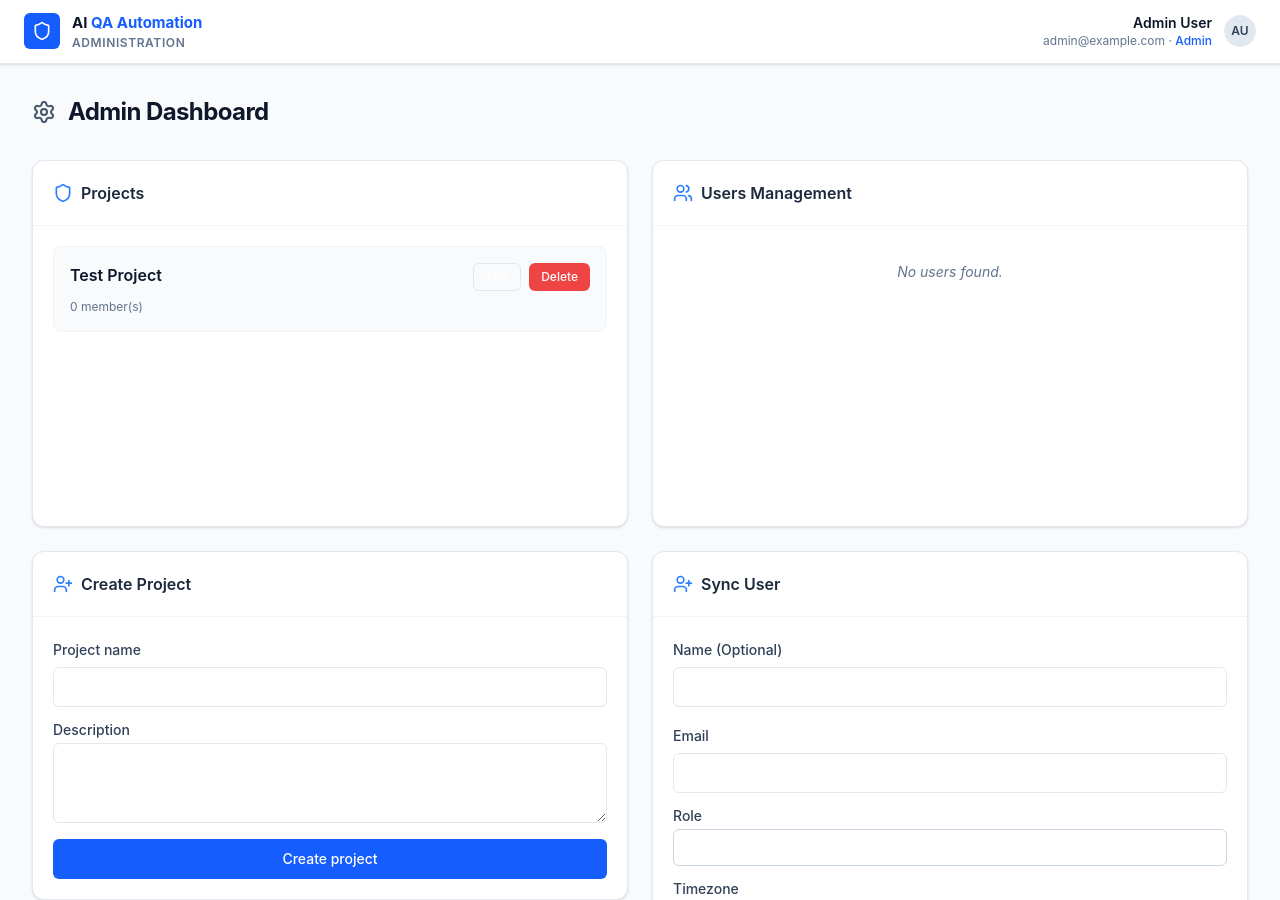
Scenario: AdminDashboard edit project form is name + description only
The width and height of the screenshot is (1280, 900).
Click the button with aria-label "edit test project": click(497, 276) [473,262,521,290]
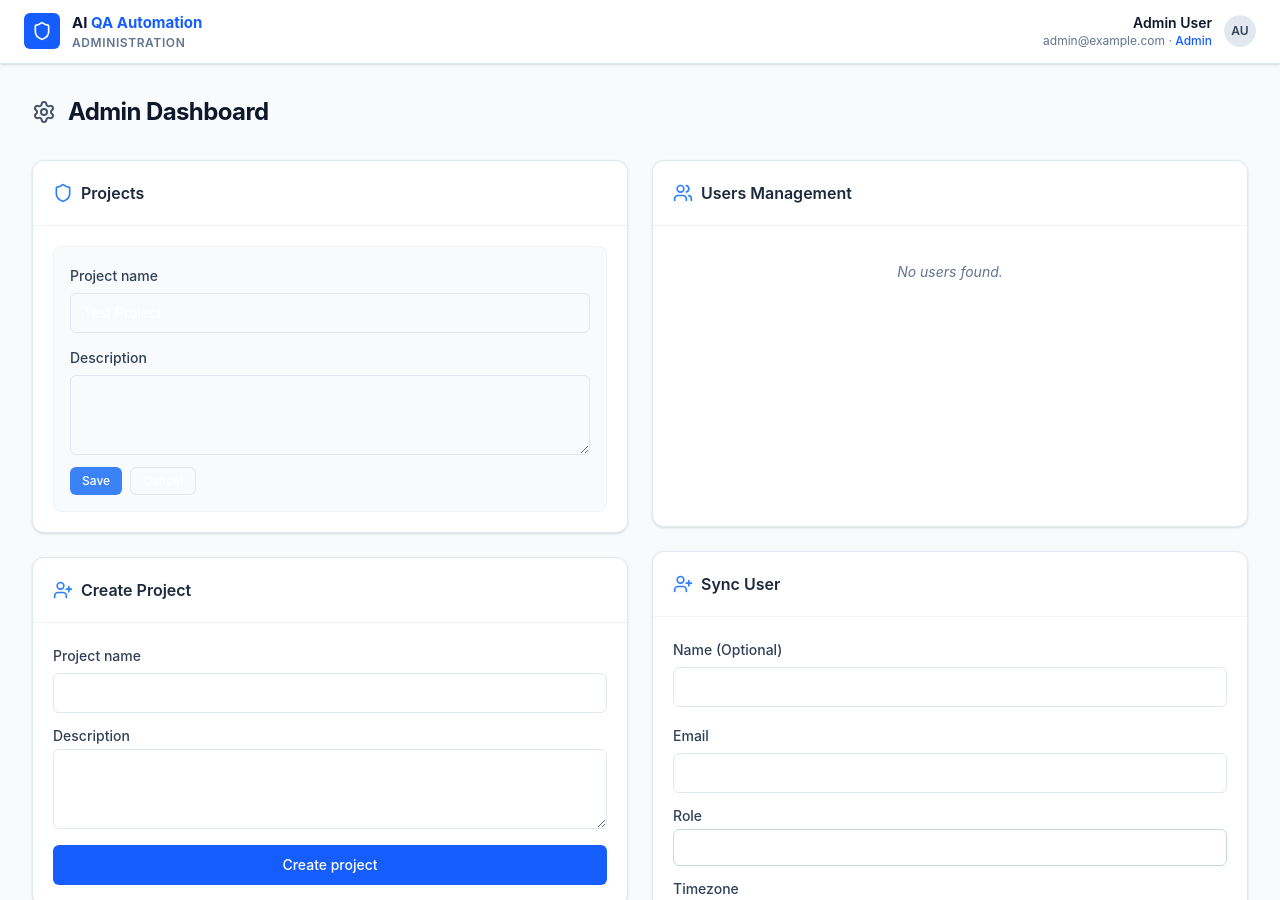
Expected: the field showing "Test Project" below "Projects" is shown, [70,292,590,332]
